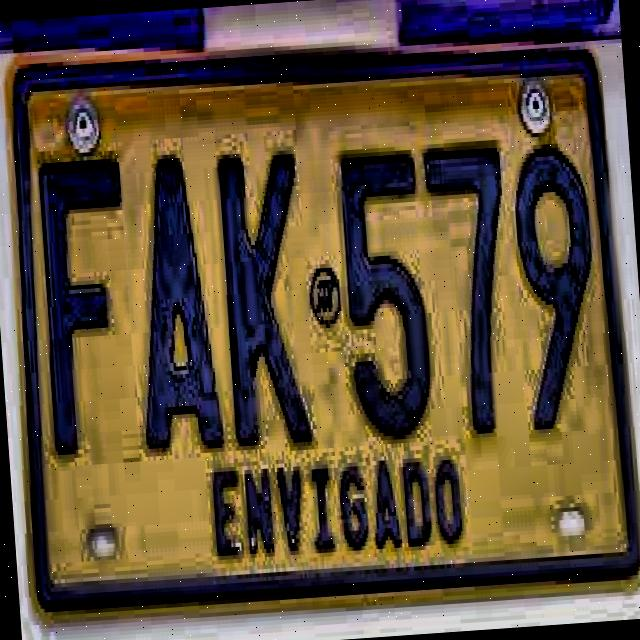5: (330, 132, 440, 452)
7: (419, 138, 526, 447)
9: (506, 134, 607, 437)
A: (124, 148, 229, 458)
F: (33, 154, 146, 458)
K: (208, 142, 320, 452)
